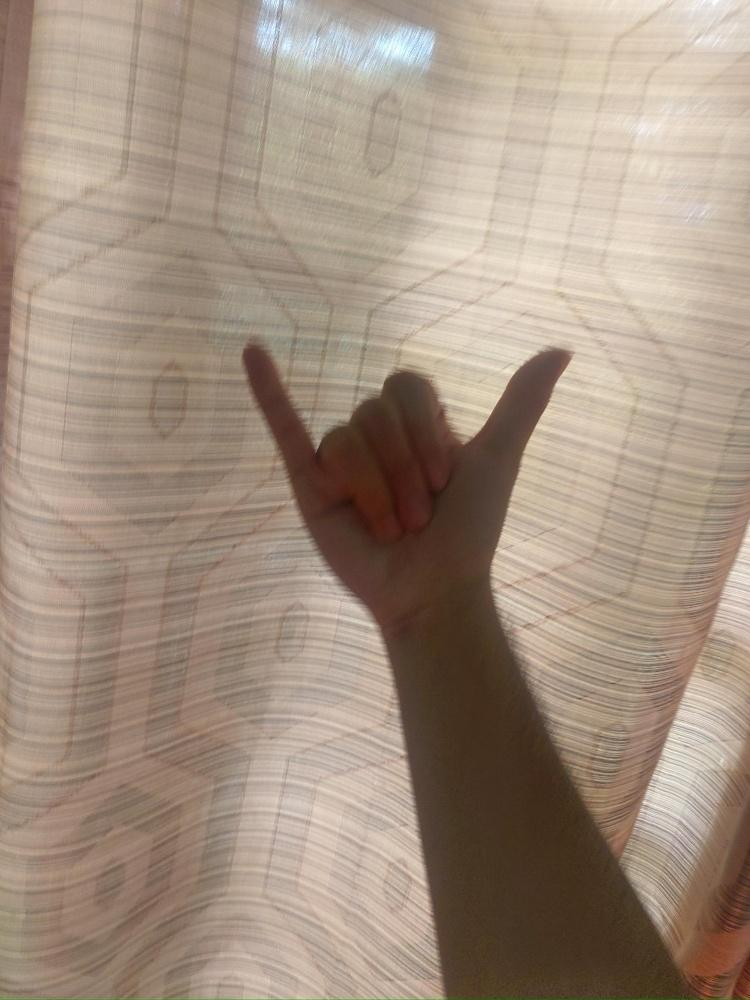y: (238, 337, 578, 611)
